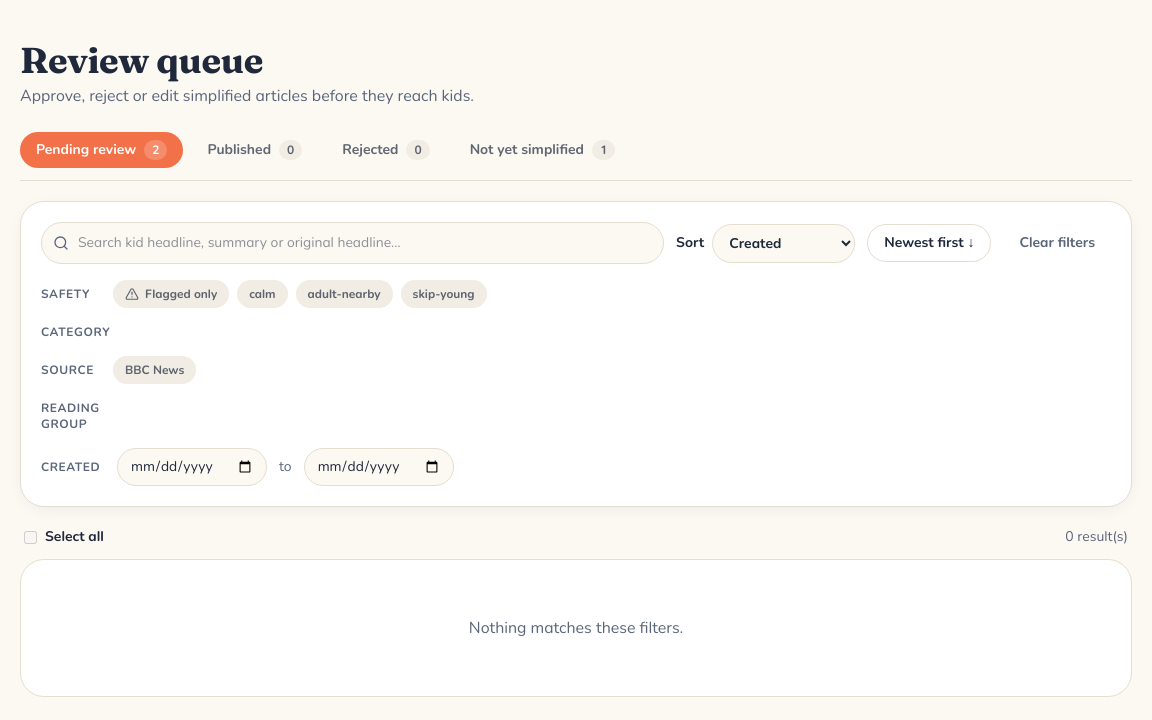
it: the waiting tab › warns when a stored item is too short to be a real story
Click the button "Not yet simplified 1" at (542,150), box [454,132,631,168]
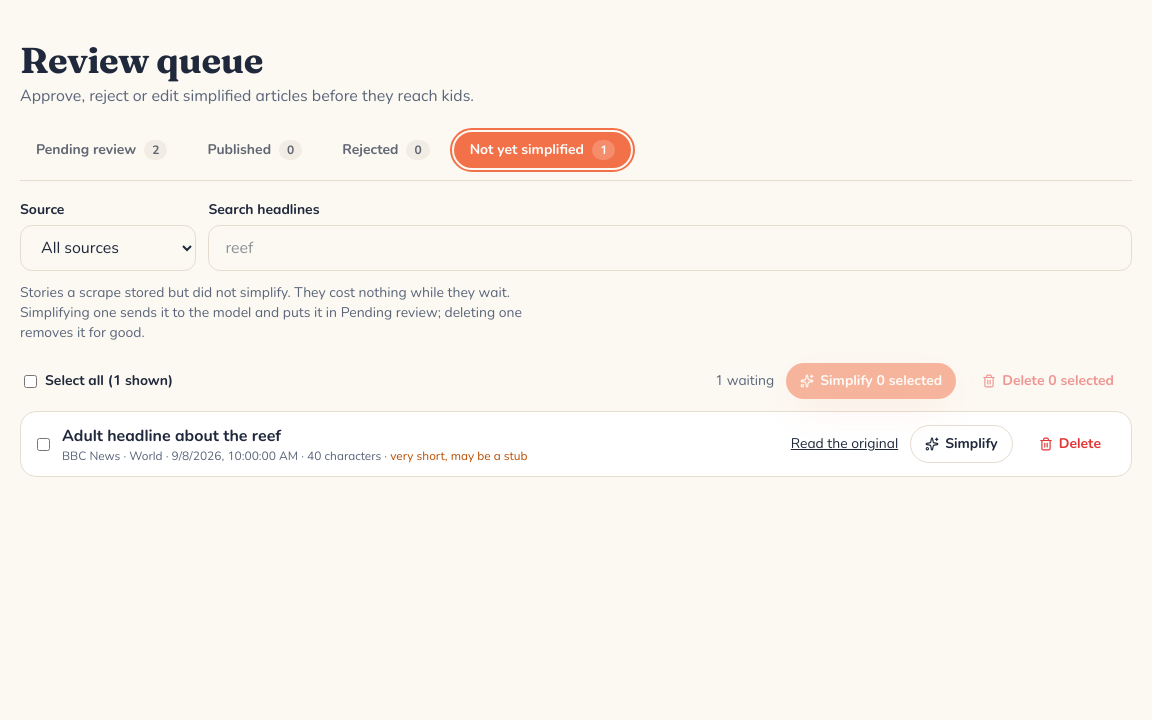
Now the text "Adult headline about the reef" is shown, box [62,425,281,447]
Now the text "· very short, may be a stub" is shown, box [381,448,527,464]
